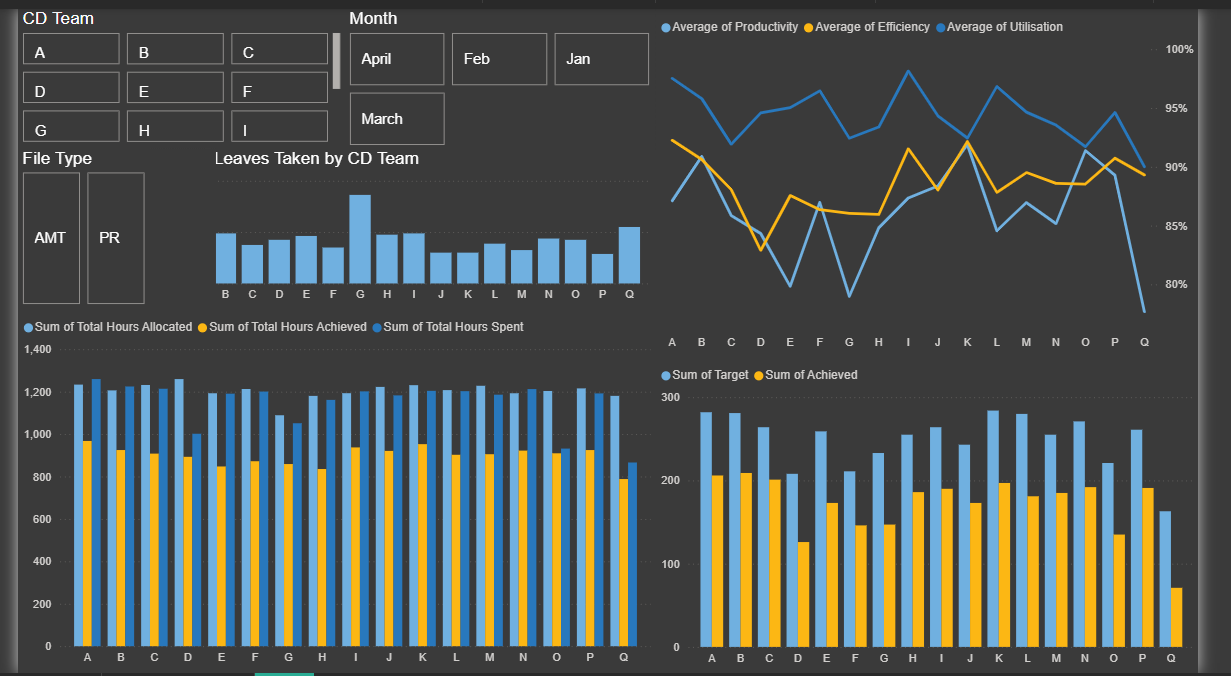

This screenshot's page, from the dashboard's own definition file:
{"tool":"powerbi","page":{"name":"Report-CDs","canvas":[1280,720],"ordinal":0},"visuals":[{"type":"advancedSlicerVisual","fields":{"Values":["CD_Combined.CD Team"]},"box":[0,0,354.6,151.3],"z":0},{"type":"advancedSlicerVisual","fields":{"Values":["CD_Combined.Month"]},"box":[354.6,0,336.7,152.9],"z":1000},{"type":"lineChart","fields":{"Category":["CD_Combined.CD Team"],"Y2":["Avg(CD_Combined.Productivity)","Avg(CD_Combined.Efficiency)","Avg(CD_Combined.Utilisation)"]},"box":[691.3,0,588.8,377.4],"z":2000},{"type":"clusteredColumnChart","fields":{"Category":["CD_Combined.CD Team"],"Y":["Sum(CD_Combined.Total Hours Allocated)","Sum(CD_Combined.Total Hours Achieved)","Sum(CD_Combined.Total Hours Spent)"]},"box":[0,325.3,691.3,393.6],"z":3000},{"type":"clusteredColumnChart","fields":{"Y":["Sum(CD_Combined.Target)","Sum(CD_Combined.Achieved)"],"Category":["CD_Combined.CD Team"]},"box":[690.5,377,589,342.2],"z":4000},{"type":"clusteredColumnChart","fields":{"Y":["Sum(CD_Combined.Leaves Taken)"],"Category":["CD_Combined.CD Team"]},"box":[143.1,151.3,548.1,174],"z":5000},{"type":"advancedSlicerVisual","fields":{"Values":["CD_Combined.File Type"]},"box":[0,151.3,214.7,174],"z":5001}]}

Visuals, with their boxes in screenshot pixels (x1, y1, x2, y2), scaled from the page's 1280x720 canvas onto the 1231x676 screenshot:
advancedSlicerVisual - CD_Combined.CD Team: bbox(0, 0, 341, 142)
advancedSlicerVisual - CD_Combined.Month: bbox(341, 0, 665, 144)
lineChart - CD_Combined.CD Team x Avg(CD_Combined.Productivity): bbox(665, 0, 1230, 354)
clusteredColumnChart - CD_Combined.CD Team x Sum(CD_Combined.Total Hours Allocated): bbox(0, 305, 665, 675)
clusteredColumnChart - Sum(CD_Combined.Target) x Sum(CD_Combined.Achieved): bbox(664, 354, 1230, 675)
clusteredColumnChart - Sum(CD_Combined.Leaves Taken) x CD_Combined.CD Team: bbox(138, 142, 665, 305)
advancedSlicerVisual - CD_Combined.File Type: bbox(0, 142, 206, 305)
